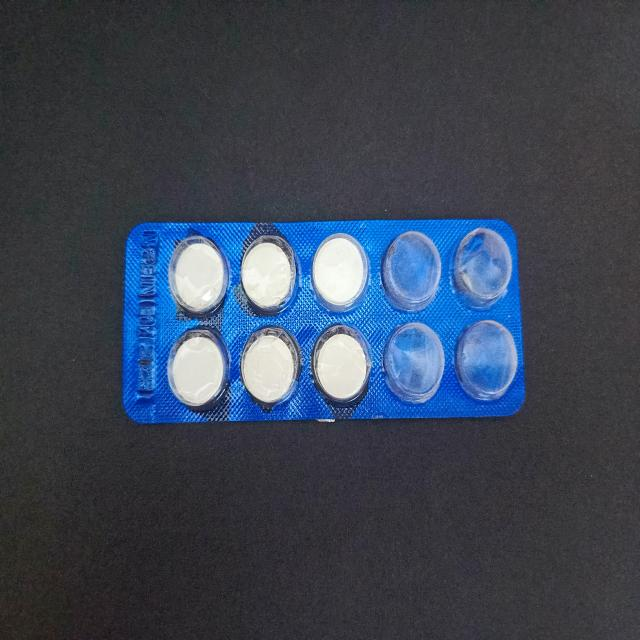defect: (453, 318, 520, 404), (378, 227, 443, 314), (381, 319, 446, 406), (451, 225, 513, 312)
